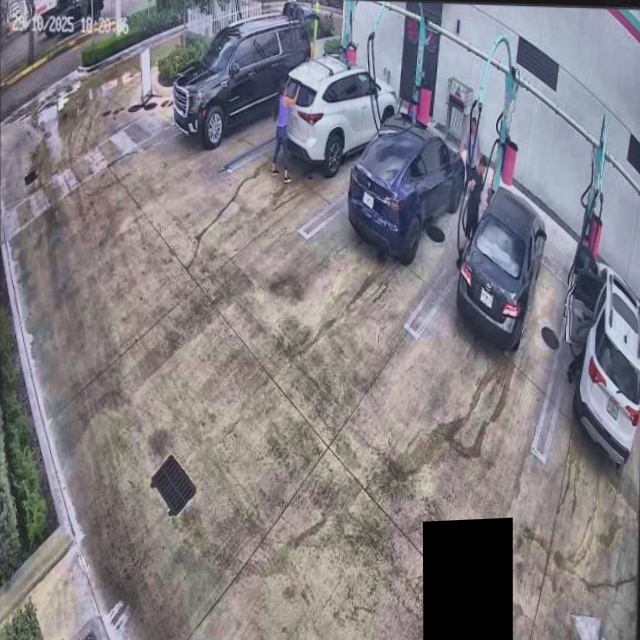Car: (348, 111, 466, 259), (455, 188, 547, 354), (280, 52, 397, 170)
